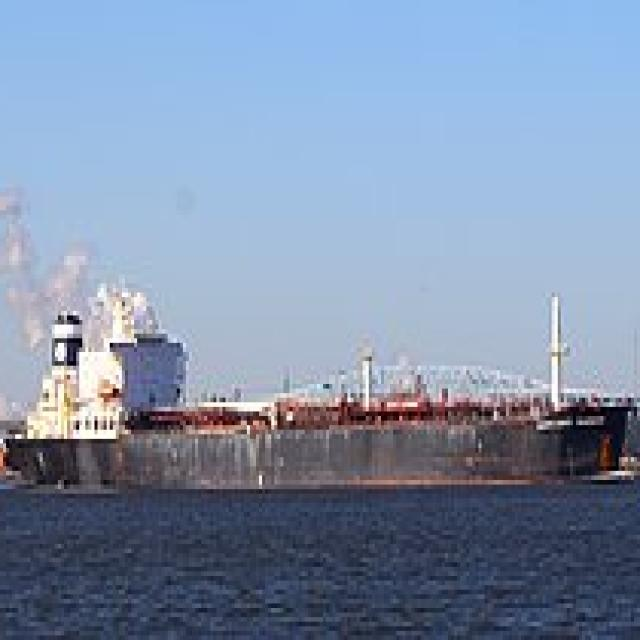Tanker: (9, 274, 634, 489)
